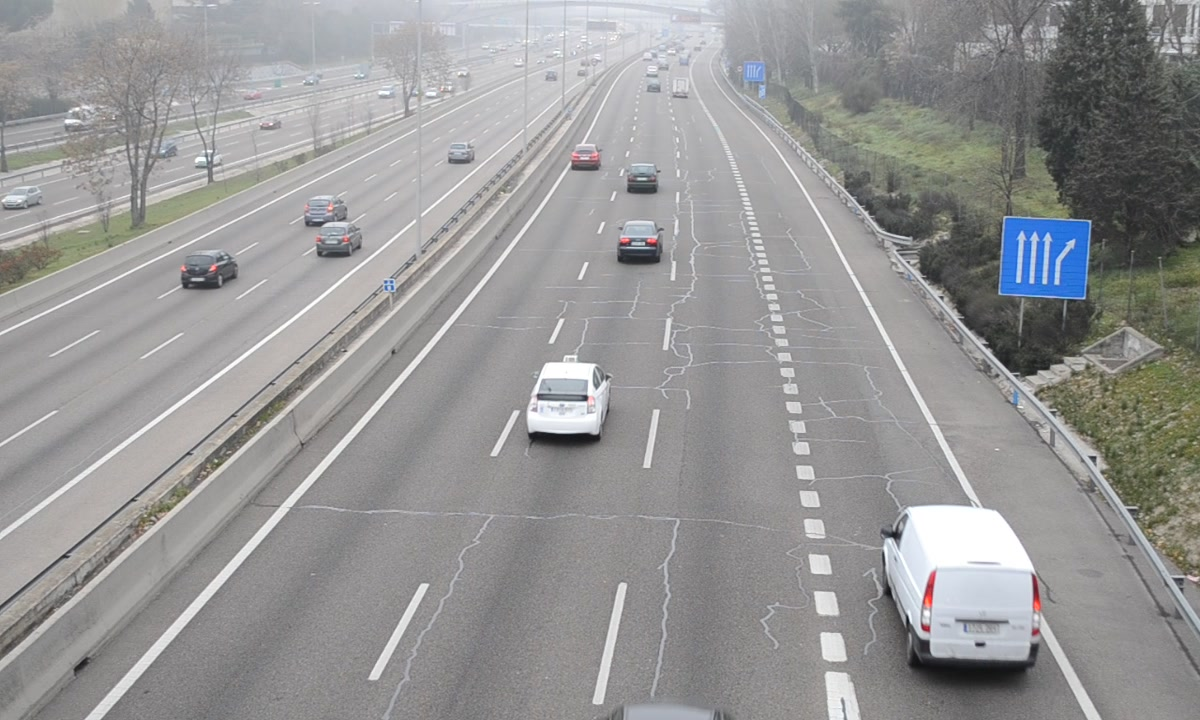car: (530, 361, 606, 437), (618, 219, 660, 259), (626, 162, 659, 190), (569, 143, 601, 171)
van: (884, 505, 1041, 670)
